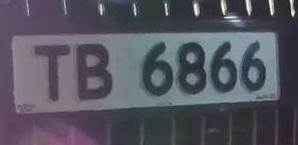6: (136, 32, 180, 107), (236, 34, 273, 94), (206, 34, 240, 96)
8: (175, 33, 210, 99)
B: (71, 36, 123, 103)
T: (26, 38, 76, 114)
